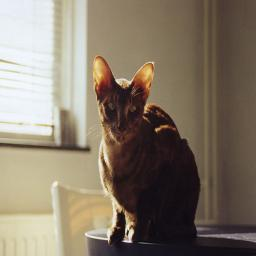catnose: (116, 112, 128, 134)
